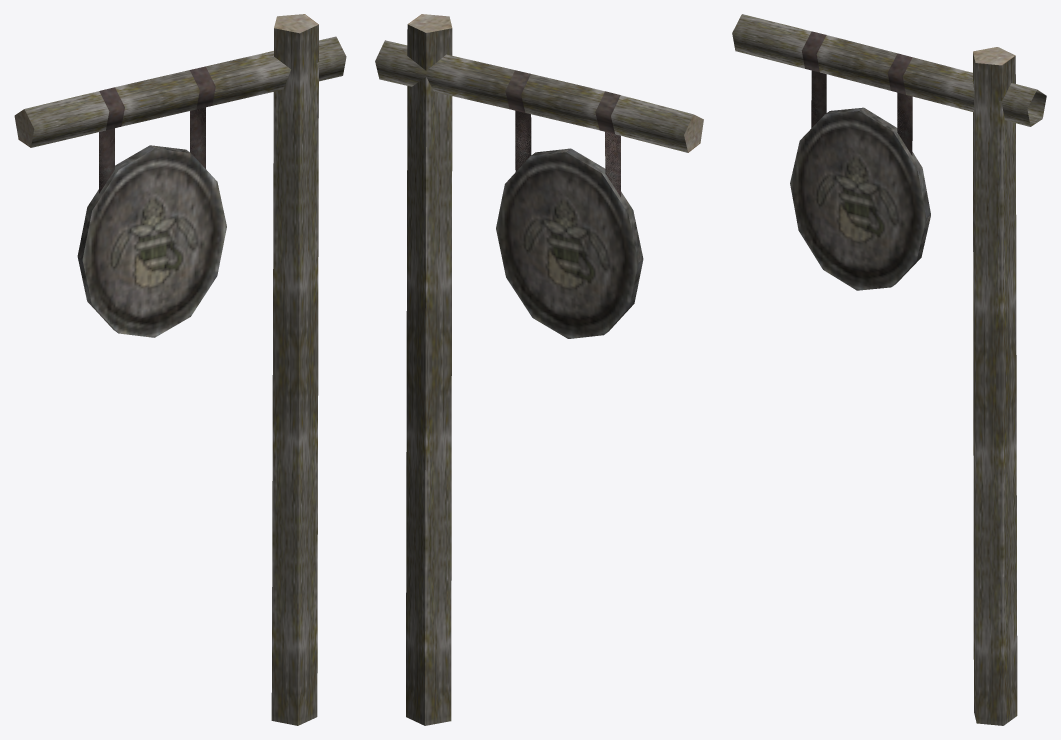
The model's file is d_sgsj_shouyou_zhaopai03_jz.FBX.
The picture shows the model from 3 angles, left to right: view 1: azimuth 30°, elevation 25°; view 2: azimuth 150°, elevation 25°; view 3: azimuth 330°, elevation 25°; orthographic projection. The views are drawn at different scales.
Parts seen in each view (by area): view 1: d_sgsj_shouyou_xiangzi01_qt; view 2: d_sgsj_shouyou_xiangzi01_qt; view 3: d_sgsj_shouyou_xiangzi01_qt.
Boxes of the visible parts, x1=… form: d_sgsj_shouyou_xiangzi01_qt: x1=14, y1=14, x2=346, y2=725; d_sgsj_shouyou_xiangzi01_qt: x1=375, y1=14, x2=703, y2=725; d_sgsj_shouyou_xiangzi01_qt: x1=732, y1=14, x2=1046, y2=725.
Bounding box in the file's own units: 138 × 294 × 19.3.
